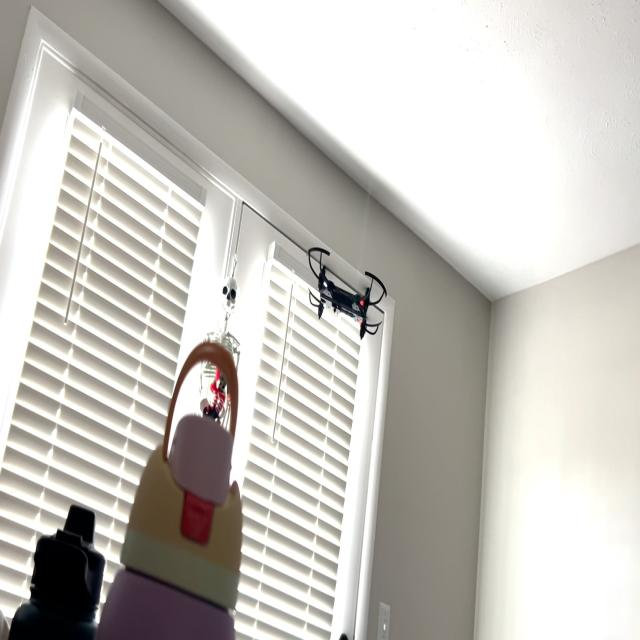drone: (298, 227, 392, 351)
